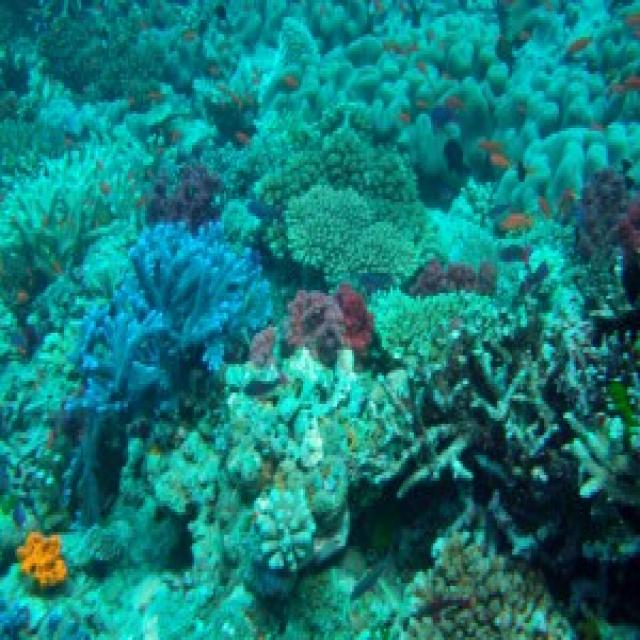Bleached: (1, 120, 150, 357)
Healthy: (257, 1, 639, 209), (470, 251, 639, 504), (67, 223, 272, 416), (227, 351, 364, 573), (1, 1, 238, 98), (402, 527, 573, 638), (255, 132, 421, 226), (285, 186, 417, 280), (370, 294, 504, 371), (342, 371, 415, 482), (283, 285, 372, 359), (18, 533, 63, 587), (251, 328, 276, 362)
